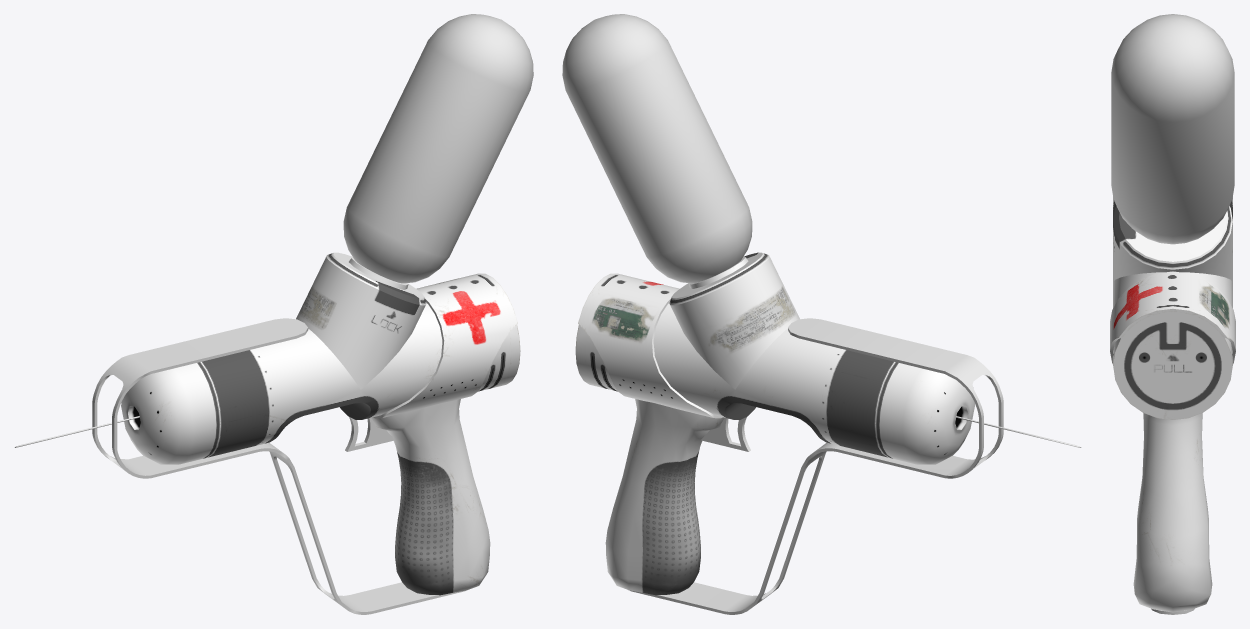
The model's file is Jeringa.fbx.
The picture shows the model from 3 angles, left to right: view 1: azimuth 30°, elevation 25°; view 2: azimuth 150°, elevation 25°; view 3: azimuth 270°, elevation 25°; orthographic projection. The views are drawn at different scales.
Visible parts, largest first — view 1: main_body_low, container_low, hand_guard_low, trigger_low; view 2: main_body_low, container_low, hand_guard_low, trigger_low; view 3: main_body_low, container_low.
Part boxes in pixels (<box>): main_body_low: <box>121,252,520,595</box>; container_low: <box>343,14,533,283</box>; hand_guard_low: <box>92,318,465,614</box>; trigger_low: <box>345,417,394,451</box>; main_body_low: <box>575,252,974,595</box>; container_low: <box>562,14,752,283</box>; hand_guard_low: <box>630,318,1003,614</box>; trigger_low: <box>701,417,750,451</box>; main_body_low: <box>1110,197,1235,612</box>; container_low: <box>1111,14,1234,244</box>.
Bounding box in the file's own units: 3649 × 3810 × 727.
2 materials, 1 textured.
